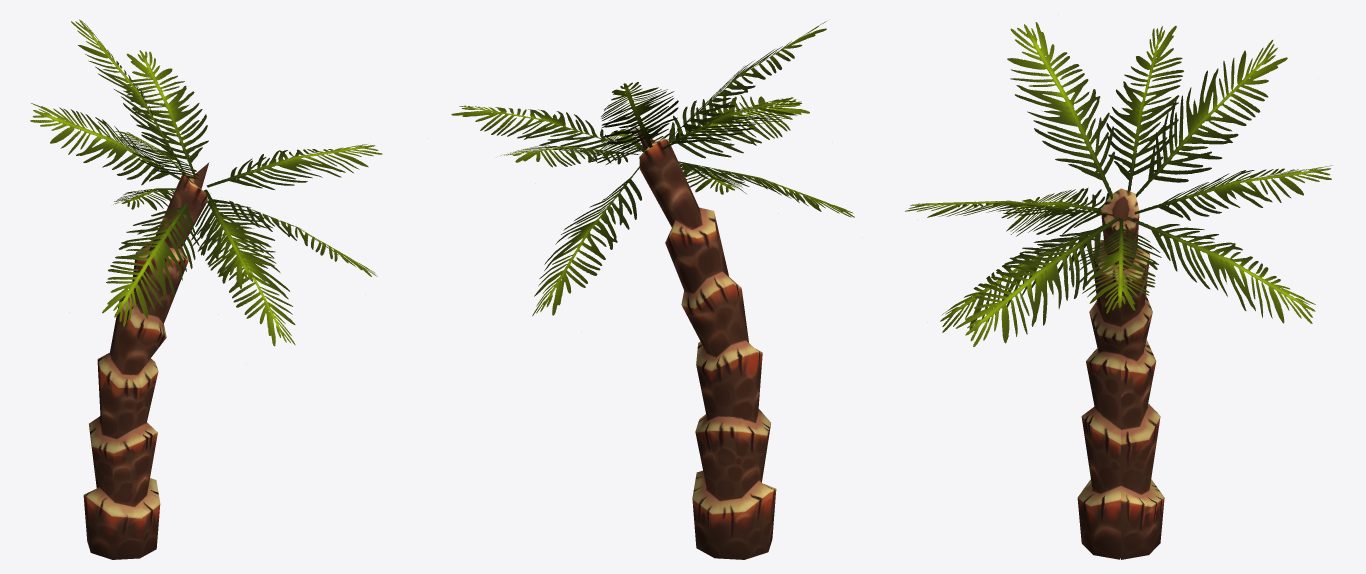
File: Palm_Tree.fbx
3 renders of one model, left to right at view 1: azimuth 30°, elevation 25°; view 2: azimuth 150°, elevation 25°; view 3: azimuth 270°, elevation 25°, orthographic. The views are drawn at different scales.
Visible parts, largest first — view 1: Cylinder_006; view 2: Cylinder_006; view 3: Cylinder_006.
Part boxes in pixels (x1,y1,x2,y2): Cylinder_006: (30, 19, 382, 559); Cylinder_006: (451, 21, 854, 559); Cylinder_006: (905, 22, 1332, 559).
Size of the model in its own units: 4.58 by 5.91 by 4.75.
